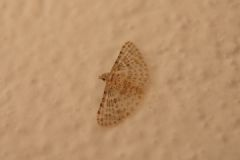Alucitidae: (94, 39, 154, 128)
moth: (92, 37, 152, 126)
